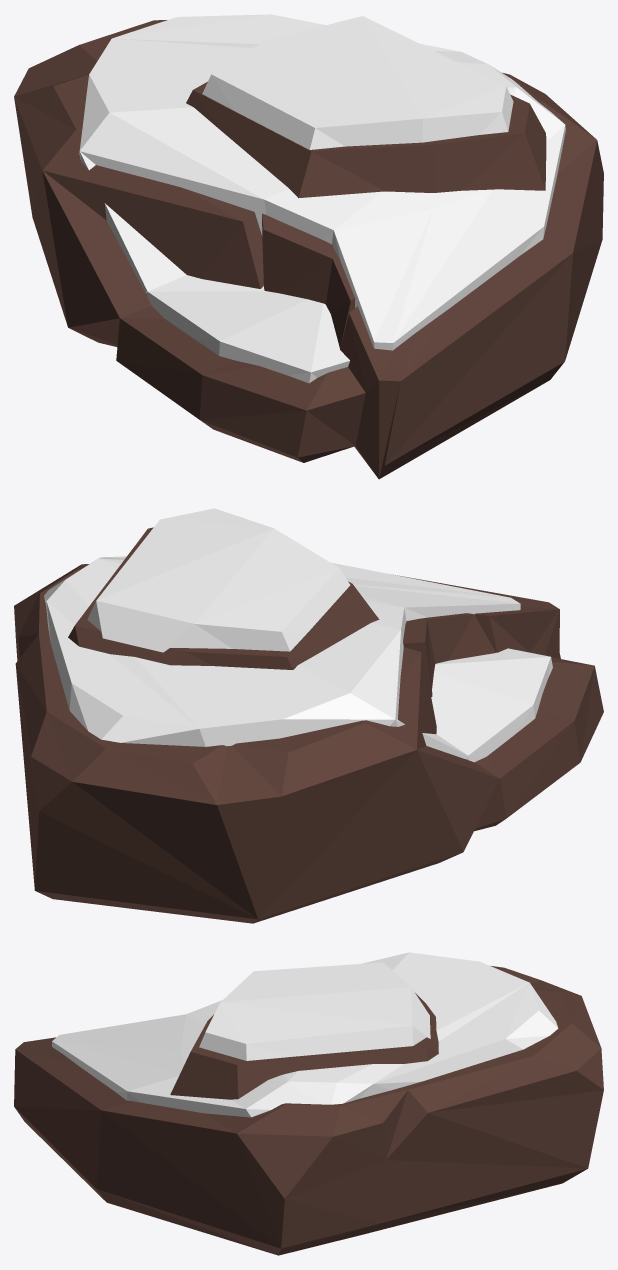
Rendered from snow_rock_005.fbx.
3 renders of one model, top to bottom at view 1: azimuth 30°, elevation 25°; view 2: azimuth 150°, elevation 25°; view 3: azimuth 270°, elevation 25°, orthographic. The views are drawn at different scales.
Visible parts, largest first — view 1: snow_rock_005; view 2: snow_rock_005; view 3: snow_rock_005.
Part boxes in pixels (<box>): snow_rock_005: <box>14,14,603,479</box>; snow_rock_005: <box>14,508,603,923</box>; snow_rock_005: <box>14,952,603,1255</box>.
Size of the model in its own units: 342 by 442 by 152.
